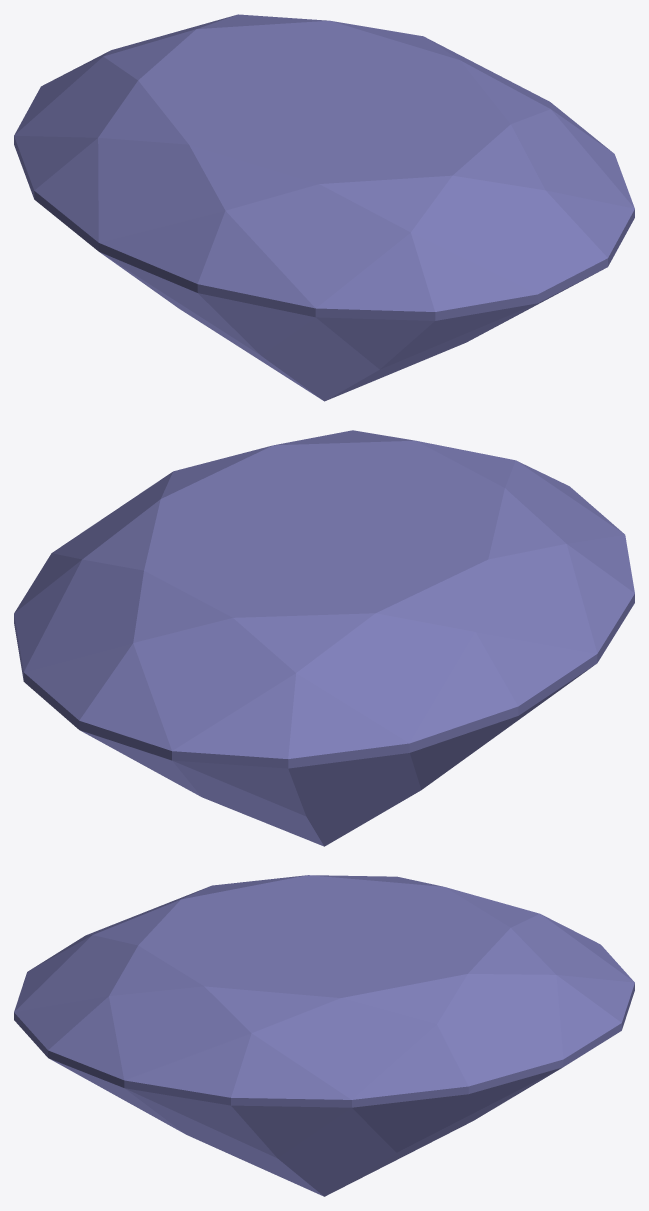
File: stone-iolite.glb
3 views of the same model, one above another, from view 1: azimuth 30°, elevation 25°; view 2: azimuth 150°, elevation 25°; view 3: azimuth 270°, elevation 25° (orthographic). The views are drawn at different scales.
Parts seen in each view (by area): view 1: Gemstone Iolite; view 2: Gemstone Iolite; view 3: Gemstone Iolite.
Part boxes in pixels (x1,y1,x2,y2): Gemstone Iolite: (14,14,634,401); Gemstone Iolite: (14,430,634,846); Gemstone Iolite: (14,875,634,1196).
Size of the model in its own units: 1.99 by 1.18 by 2.54.
